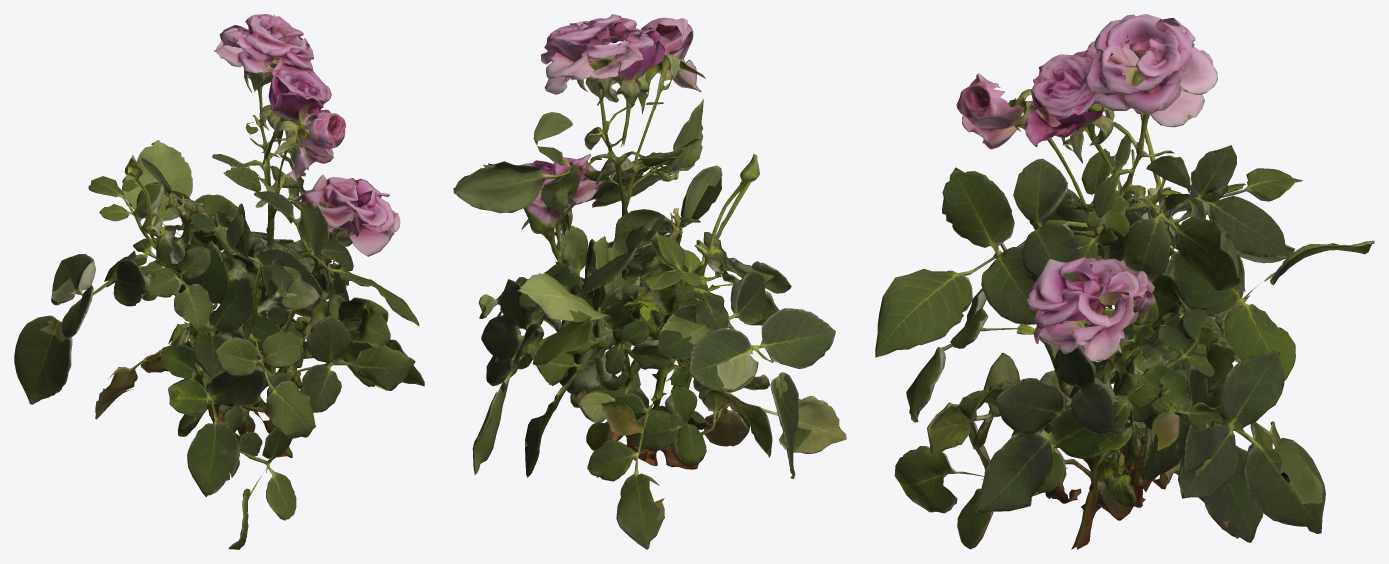
The model's file is roses_medium.glb.
The picture shows the model from 3 angles, left to right: view 1: azimuth 30°, elevation 25°; view 2: azimuth 150°, elevation 25°; view 3: azimuth 270°, elevation 25°; orthographic projection. The views are drawn at different scales.
Visible parts, largest first — view 1: Object_2; view 2: Object_2; view 3: Object_2.
Boxes of the visible parts, box(x1,y1,x2,y2) form: Object_2: box(14, 14, 424, 549); Object_2: box(453, 14, 846, 549); Object_2: box(875, 14, 1374, 549).
Bounding box in the file's own units: 3.14 × 4.1 × 3.33.
Materials: 1 (1 with a texture image).
